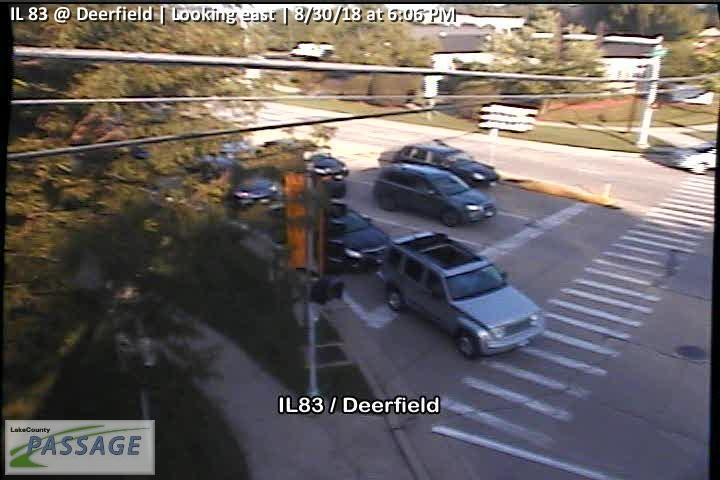SUV: (375, 231, 545, 359), (374, 162, 496, 228), (393, 142, 500, 188)
Sedan: (269, 203, 392, 276)
